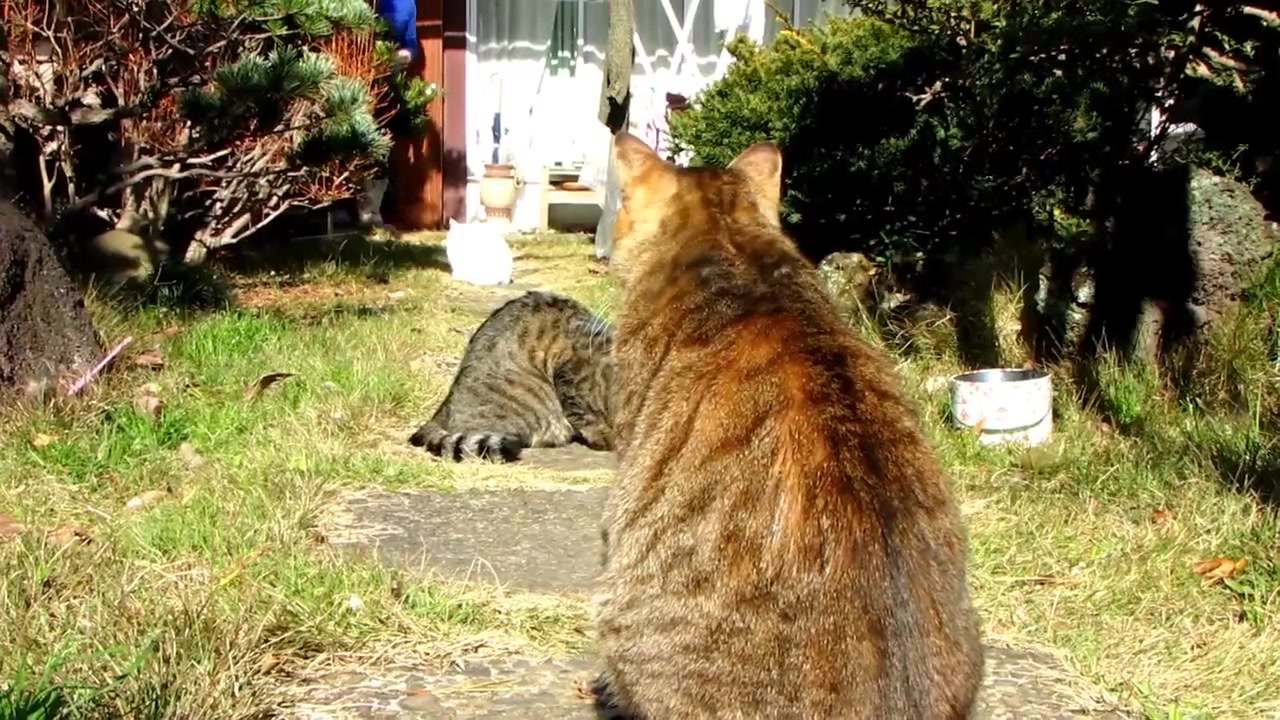cat: (594, 131, 987, 720), (410, 296, 620, 463)
